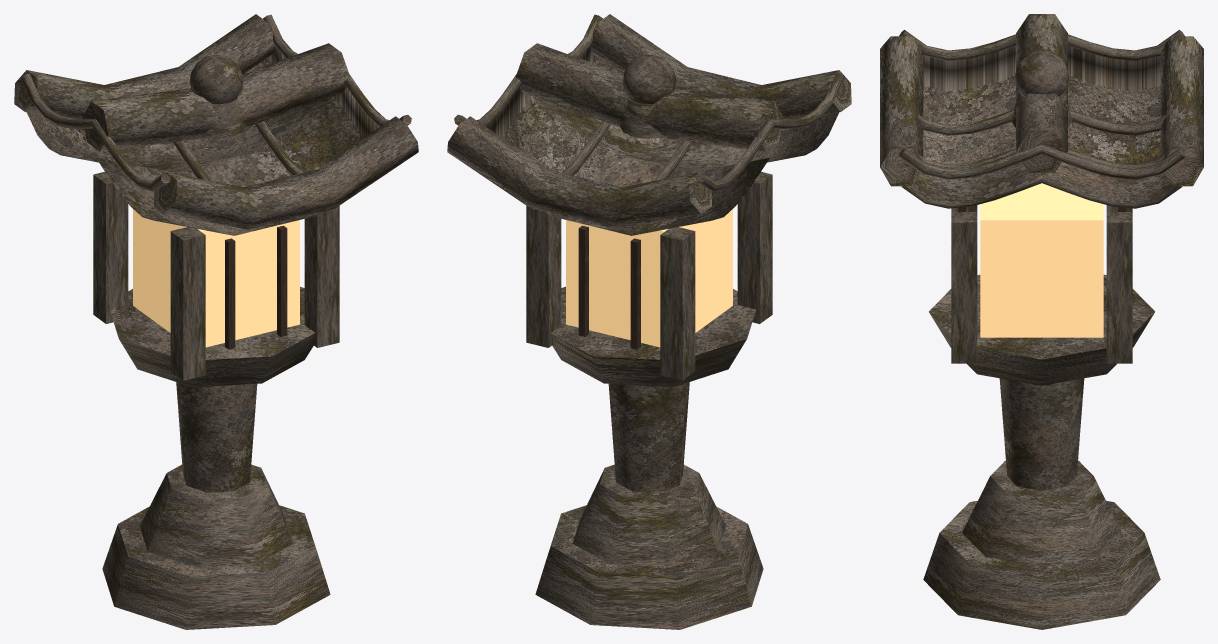
The model's file is sakura-lantern.glb.
3 renders of one model, left to right at view 1: azimuth 30°, elevation 25°; view 2: azimuth 150°, elevation 25°; view 3: azimuth 270°, elevation 25°, orthographic.
Parts seen in each view (by area): view 1: sakura-lantern-sakura-stone, sakura-lantern-sakura-paper, sakura-lantern-sakura-wood; view 2: sakura-lantern-sakura-stone, sakura-lantern-sakura-paper, sakura-lantern-sakura-wood; view 3: sakura-lantern-sakura-stone, sakura-lantern-sakura-paper.
Part boxes in pixels (<box>): sakura-lantern-sakura-stone: <box>14,14,418,629</box>; sakura-lantern-sakura-paper: <box>133,209,299,347</box>; sakura-lantern-sakura-wood: <box>225,225,287,349</box>; sakura-lantern-sakura-stone: <box>447,14,851,629</box>; sakura-lantern-sakura-paper: <box>566,209,732,347</box>; sakura-lantern-sakura-wood: <box>578,225,640,349</box>; sakura-lantern-sakura-stone: <box>880,14,1203,629</box>; sakura-lantern-sakura-paper: <box>980,183,1103,337</box>.
Bounding box in the file's own units: 1.37 × 2.69 × 1.5.
3 materials, 2 textured.
